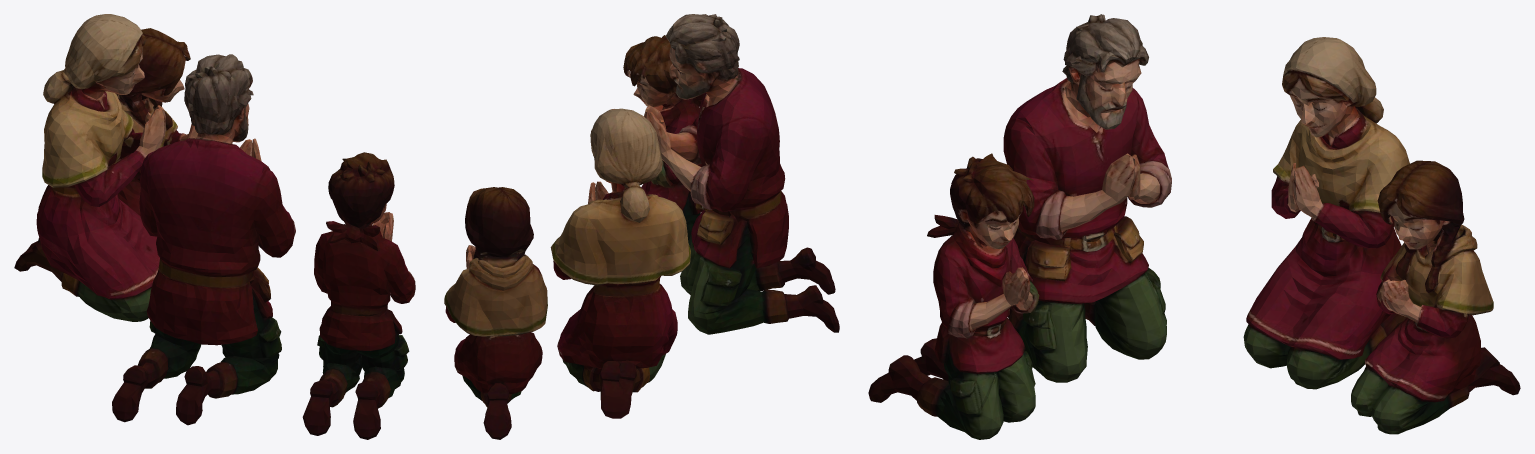
File: Familia orando.glb
The picture shows the model from 3 angles, left to right: view 1: azimuth 30°, elevation 25°; view 2: azimuth 150°, elevation 25°; view 3: azimuth 270°, elevation 25°; orthographic projection. The views are drawn at different scales.
Visible parts, largest first — view 1: tripo_node_d2cfdaa0-2472-44bd-8646-ac23982235a2; view 2: tripo_node_d2cfdaa0-2472-44bd-8646-ac23982235a2; view 3: tripo_node_d2cfdaa0-2472-44bd-8646-ac23982235a2.
Boxes of the visible parts, left/top/right/bottom form: tripo_node_d2cfdaa0-2472-44bd-8646-ac23982235a2: left=14, top=14, right=415, bottom=439; tripo_node_d2cfdaa0-2472-44bd-8646-ac23982235a2: left=444, top=14, right=839, bottom=439; tripo_node_d2cfdaa0-2472-44bd-8646-ac23982235a2: left=868, top=14, right=1520, bottom=439.
Bounding box in the file's own units: 0.8671 × 1 × 1.67.
1 material, 1 textured.
